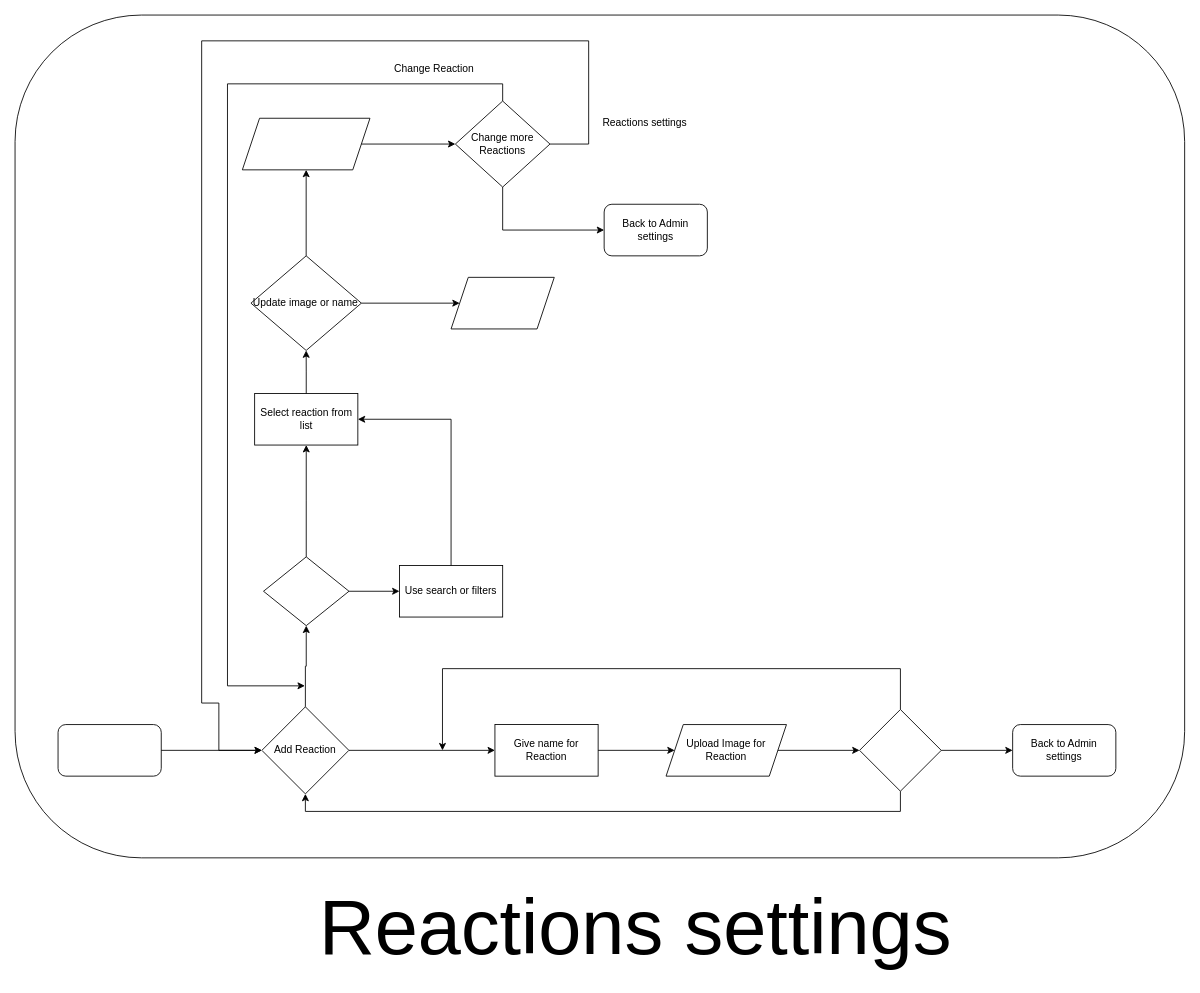
The diagram is 1200 pixels wide and 993 high, and some of its shapes have lost their labels. The shapes that lost their labels are listed below. From the top down, each one's centre as x and y in pixels, then its label:
At (305,143): "Upload new Image".
At (502,302): "Update name".
At (306,591): "Search for Reaction".
At (109,750): "Reaction Settings".
At (900,750): "Add more Reactions".
